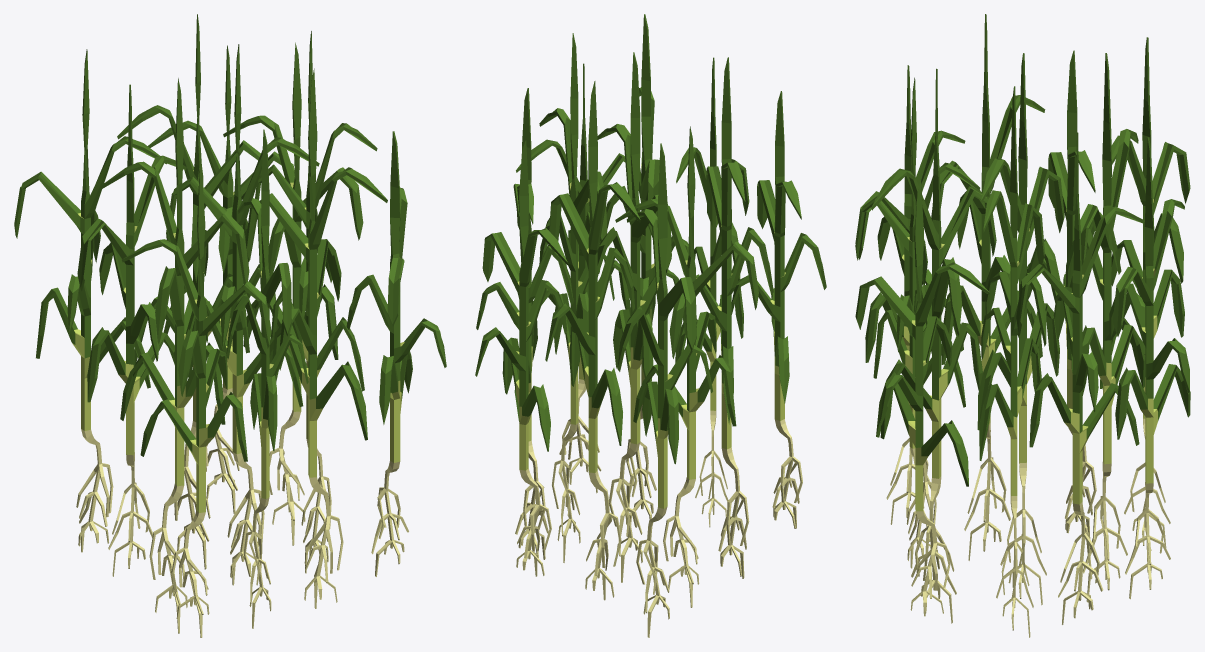
File: mod_WinterWheat_Full.fbx
The picture shows the model from 3 angles, left to right: view 1: azimuth 30°, elevation 25°; view 2: azimuth 150°, elevation 25°; view 3: azimuth 270°, elevation 25°; orthographic projection. The views are drawn at different scales.
Visible parts, largest first — view 1: Wheat.004, Wheat.010, Wheat.006, Wheat.007, Wheat.008, Wheat.011, Wheat, Wheat.003, Wheat.005, Wheat.002, Wheat.001, Wheat.009; view 2: Wheat.001, Wheat.008, Wheat.009, Wheat.007, Wheat, Wheat.006, Wheat.010, Wheat.002, Wheat.004, Wheat.003, Wheat.005, Wheat.011; view 3: Wheat.005, Wheat.009, Wheat.004, Wheat.002, Wheat.011, Wheat.001, Wheat, Wheat.006, Wheat.008, Wheat.003, Wheat.010, Wheat.007.
Boxes of the visible parts, x1,y1,x2,y2 form: Wheat.004: (245, 68, 387, 608); Wheat.010: (122, 169, 271, 637); Wheat.006: (101, 78, 249, 633); Wheat.007: (77, 84, 186, 576); Wheat.008: (14, 49, 166, 552); Wheat.011: (346, 131, 446, 576); Wheat: (166, 44, 319, 585); Wheat.003: (226, 129, 308, 628); Wheat.005: (223, 42, 363, 545); Wheat.002: (255, 31, 377, 573); Wheat.001: (117, 14, 261, 569); Wheat.009: (148, 45, 294, 513); Wheat.001: (545, 81, 640, 600); Wheat.008: (617, 143, 712, 637); Wheat.009: (475, 140, 567, 576); Wheat.007: (615, 126, 758, 607); Wheat: (597, 52, 678, 582); Wheat.006: (696, 57, 773, 578); Wheat.010: (731, 91, 826, 528); Wheat.002: (539, 33, 614, 562); Wheat.004: (599, 14, 688, 537); Wheat.003: (675, 57, 749, 533); Wheat.005: (476, 88, 573, 559); Wheat.011: (516, 63, 641, 493); Wheat.005: (1016, 132, 1144, 624); Wheat.009: (1109, 137, 1190, 599); Wheat.004: (871, 68, 996, 623); Wheat.002: (979, 86, 1046, 637); Wheat.011: (855, 179, 989, 616); Wheat.001: (1065, 53, 1145, 602); Wheat: (977, 53, 1064, 605); Wheat.006: (931, 14, 1045, 560); Wheat.008: (1100, 37, 1190, 547); Wheat.003: (855, 77, 980, 568); Wheat.010: (855, 65, 965, 524); Wheat.007: (1027, 50, 1121, 538).
Size of the model in its own units: 398 by 722 by 398.
